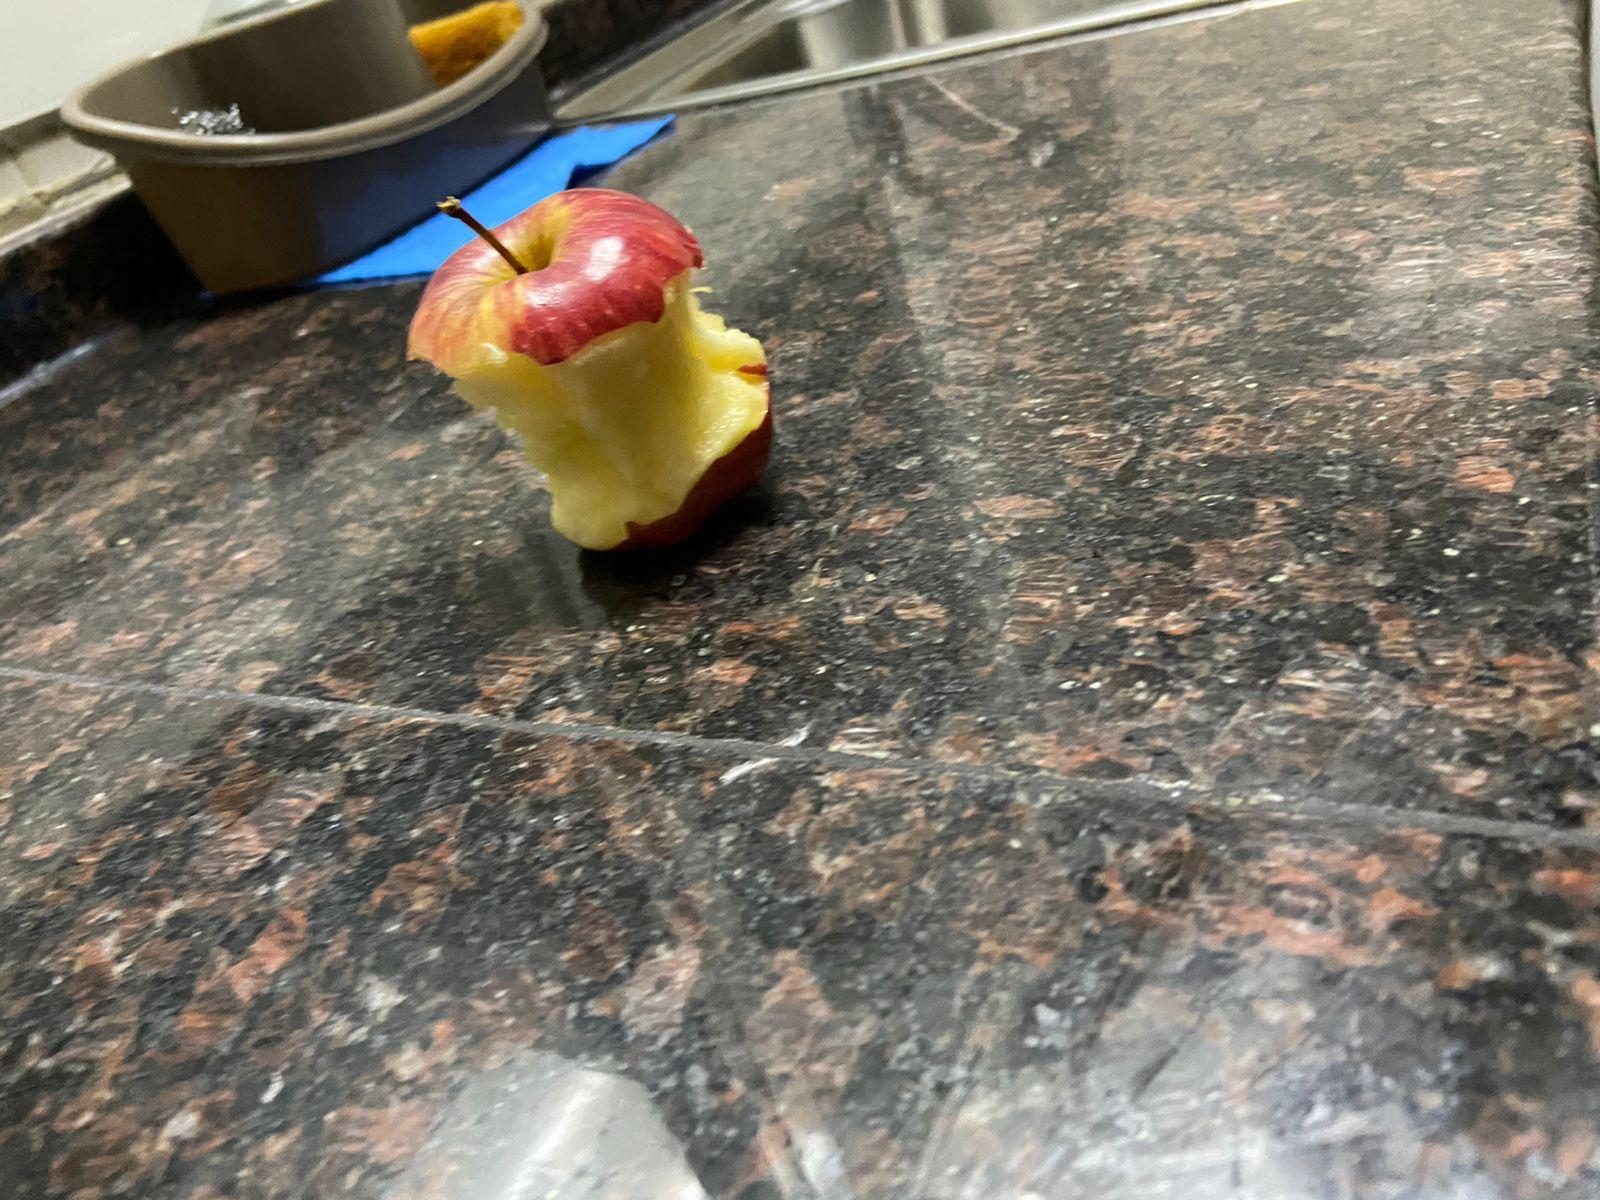Apple: (375, 183, 787, 575)
